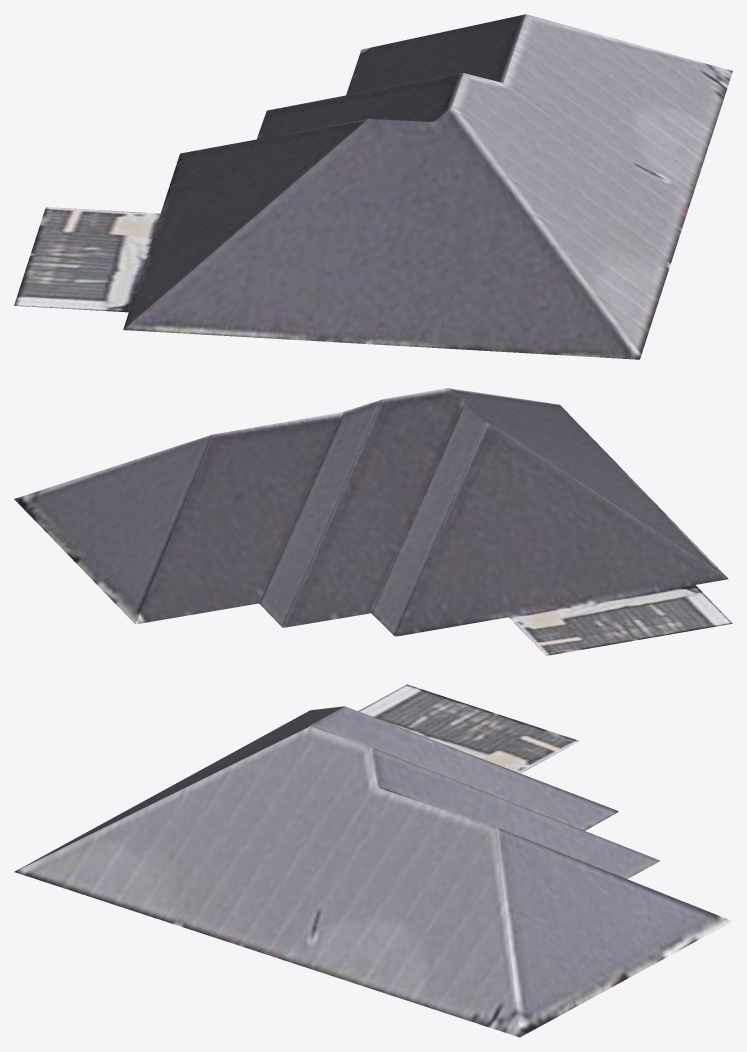
The model's file is BK39_500_013031_0062_roof.obj.
3 views of the same model, one above another, from view 1: azimuth 30°, elevation 25°; view 2: azimuth 150°, elevation 25°; view 3: azimuth 270°, elevation 25° (orthographic). The views are drawn at different scales.
Visible parts, largest first — view 1: BK39_500_013031_0062_roof; view 2: BK39_500_013031_0062_roof; view 3: BK39_500_013031_0062_roof.
Boxes of the visible parts, x1,y1,x2,y2 form: BK39_500_013031_0062_roof: (14,14,732,359); BK39_500_013031_0062_roof: (14,388,732,655); BK39_500_013031_0062_roof: (14,684,732,1037).
Bounding box in the file's own units: 399 × 70 × 343.
1 material, 1 textured.
